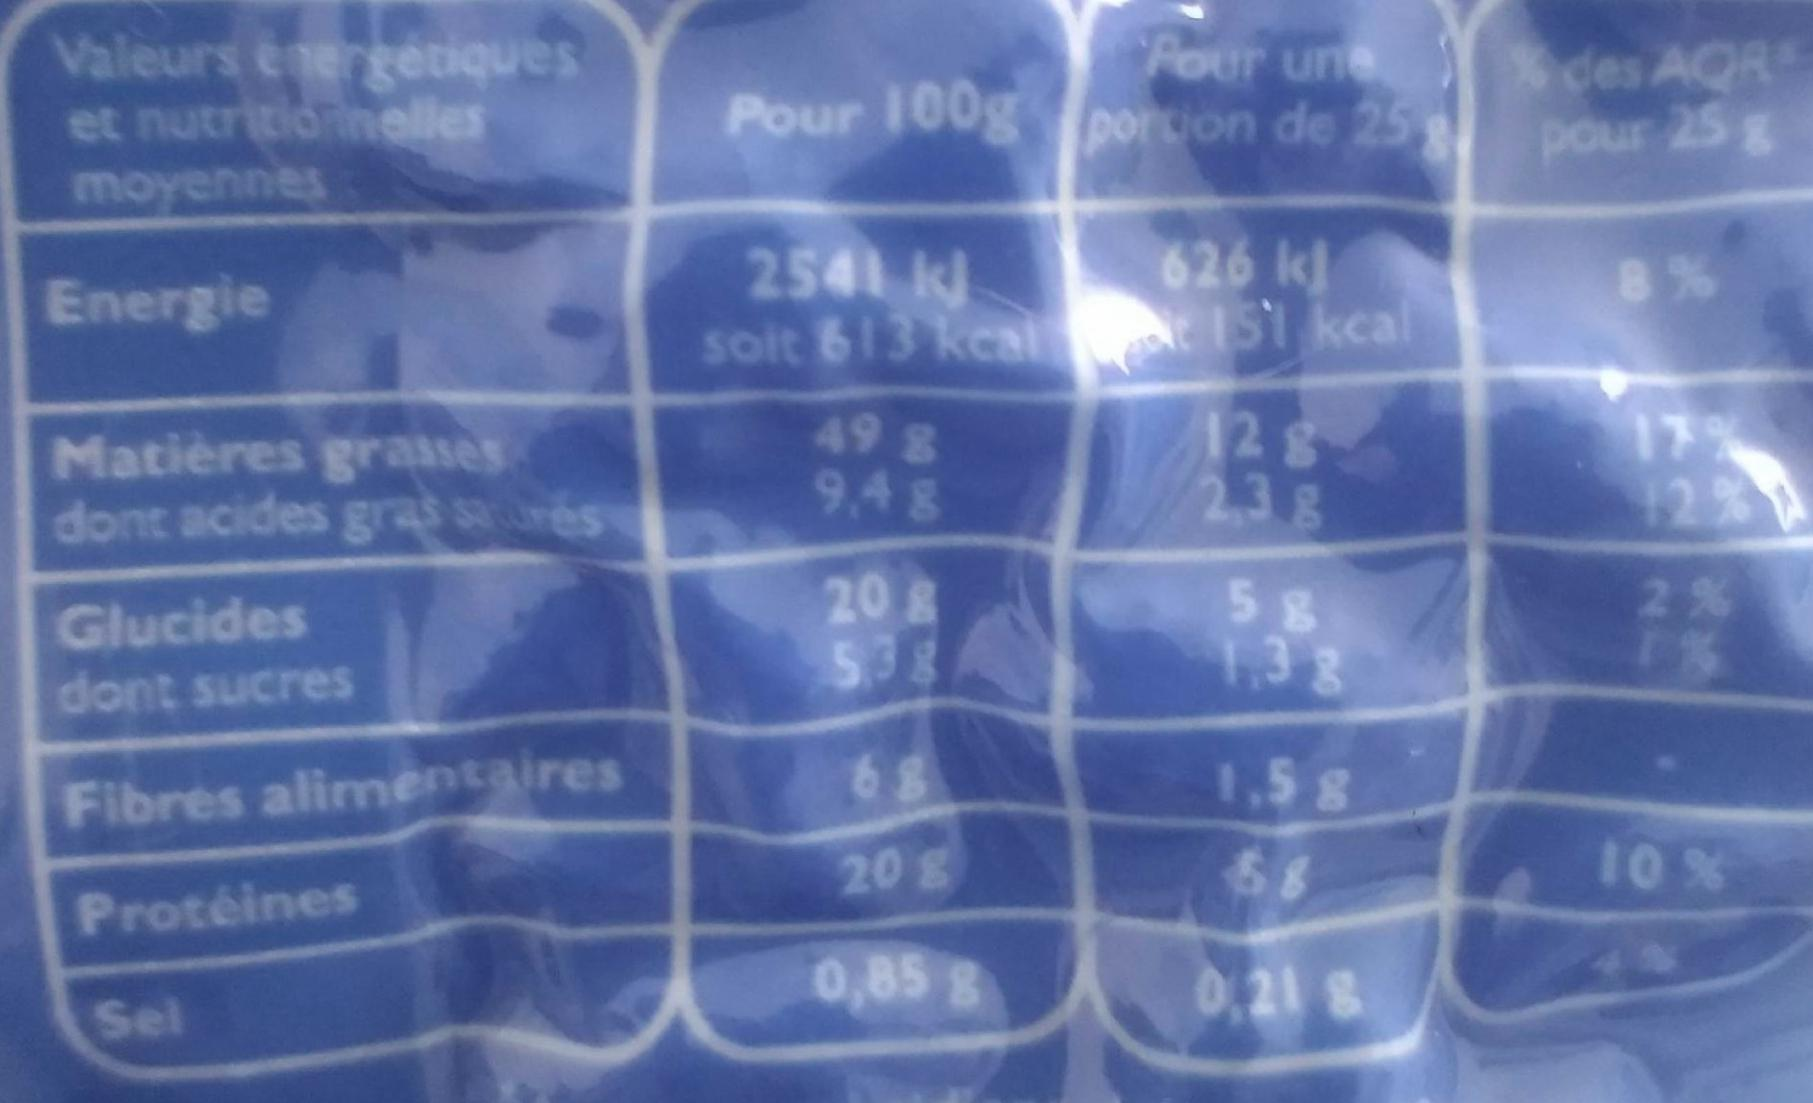column: (35, 22, 620, 1047), (1085, 38, 1447, 1015), (681, 78, 1037, 1008), (1496, 36, 1800, 974)
line: (60, 32, 1799, 206), (41, 240, 1797, 366), (71, 944, 1715, 1042), (48, 844, 1733, 930), (56, 474, 1757, 539), (51, 634, 1739, 695), (60, 756, 1733, 810), (51, 418, 1748, 465), (44, 583, 1740, 625)
table: (6, 1, 1813, 1072)
